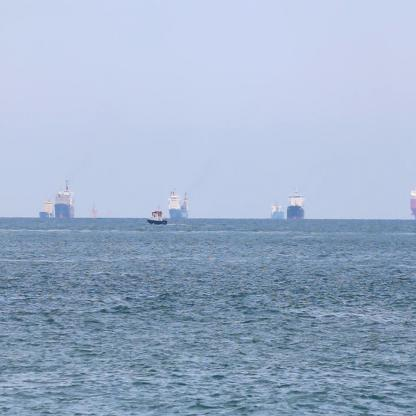Container Ship: (55, 178, 77, 221), (166, 187, 192, 223), (287, 184, 306, 224), (146, 207, 168, 227), (37, 196, 53, 223), (268, 200, 284, 225), (87, 202, 99, 221)
